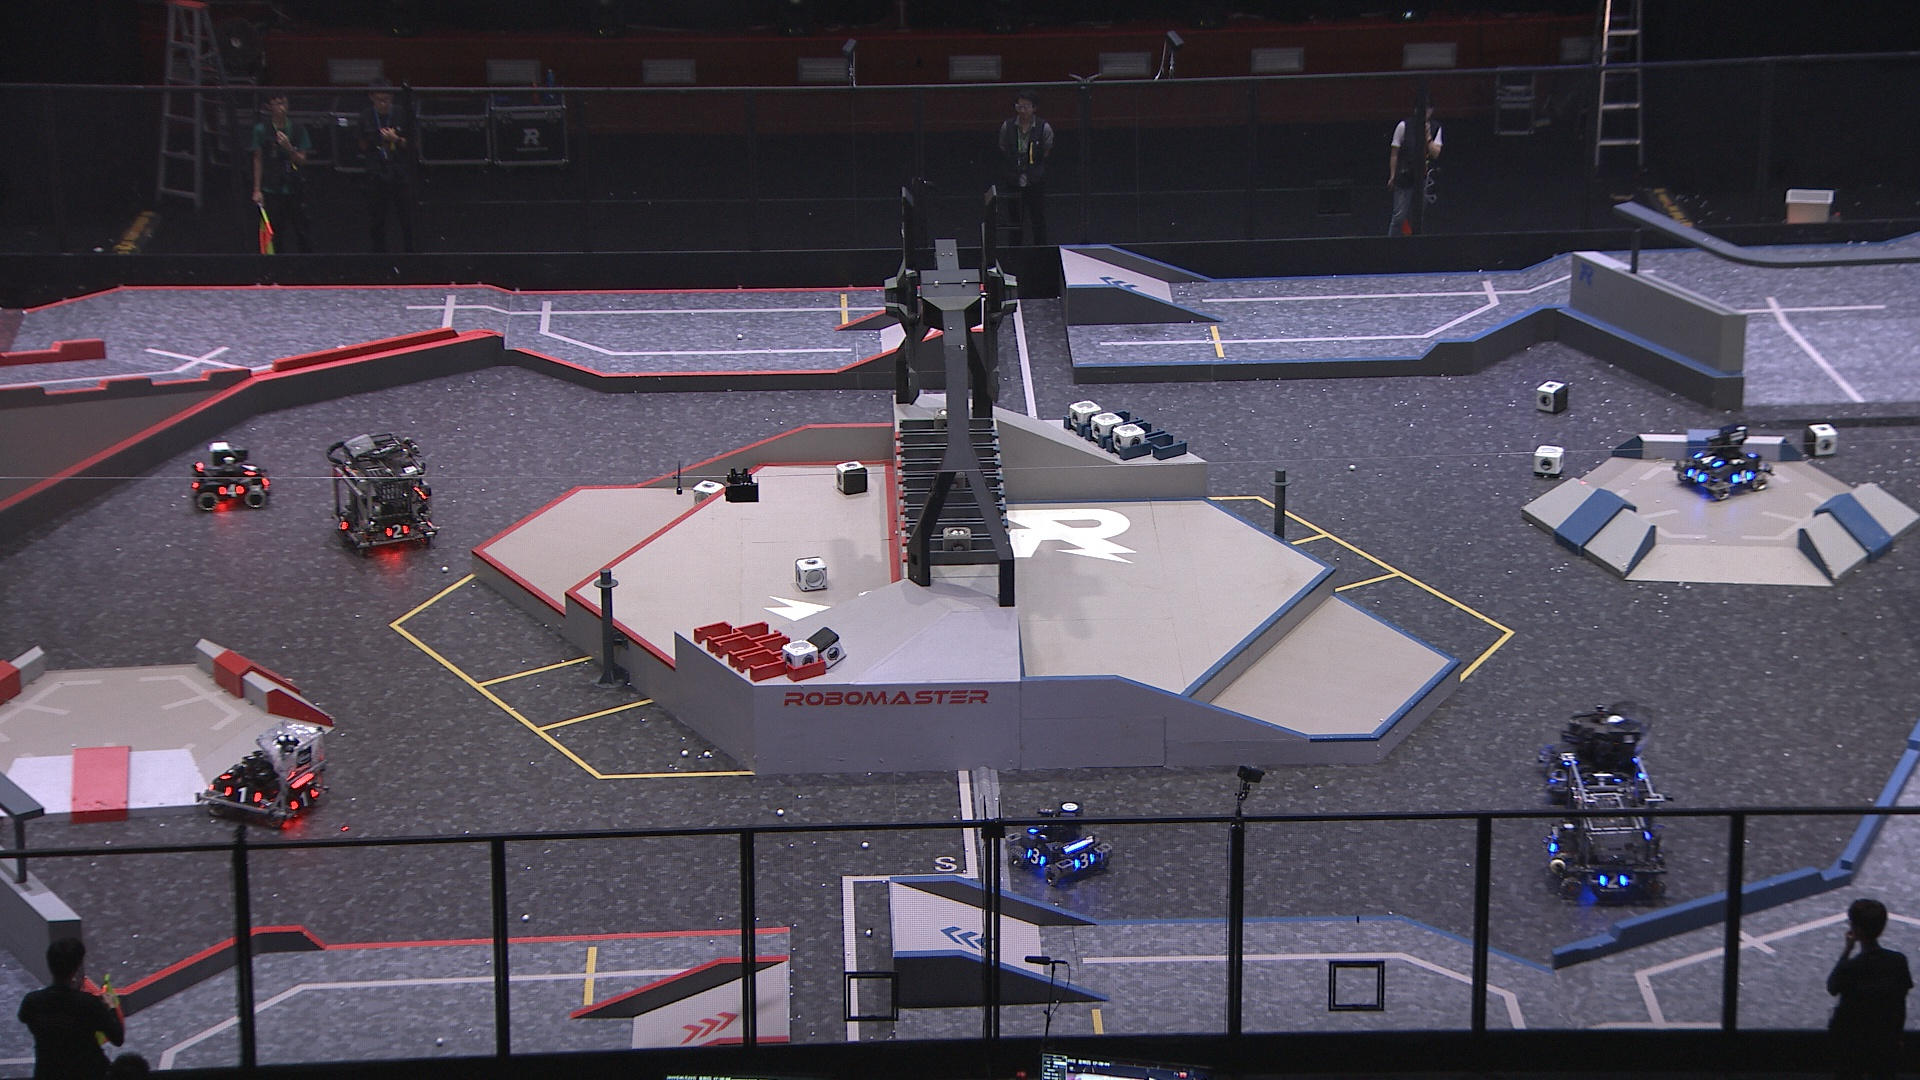armor: (223, 785, 266, 806), (289, 789, 319, 812), (1596, 872, 1631, 891), (1692, 450, 1724, 469), (1069, 851, 1096, 870), (1683, 465, 1709, 485), (219, 483, 248, 498), (384, 524, 410, 541), (1731, 469, 1756, 487), (1025, 847, 1044, 868), (240, 463, 262, 479), (334, 513, 351, 531)
car: (1544, 757, 1667, 899), (195, 725, 334, 831), (324, 431, 439, 556), (1538, 700, 1651, 802), (1002, 800, 1112, 885), (1673, 423, 1775, 501), (190, 440, 268, 510)
